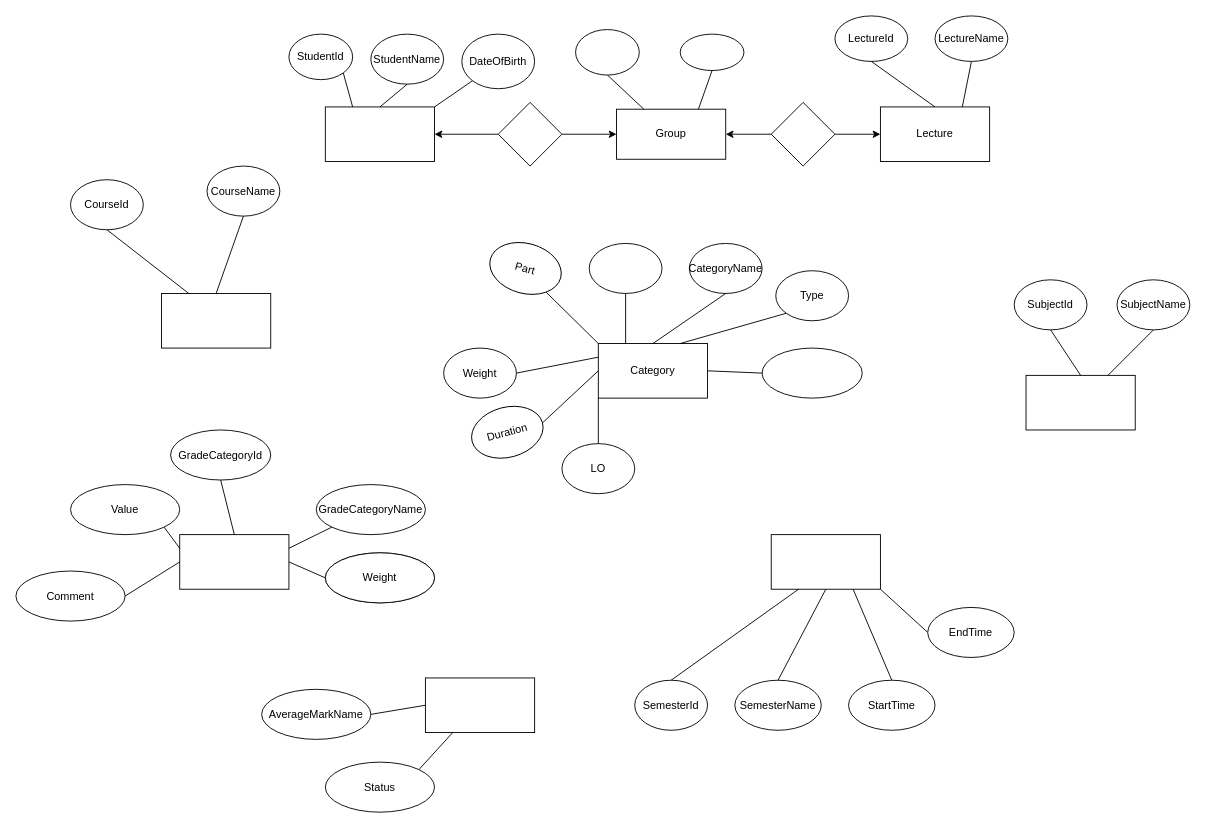
Image size: 1206x828. Some labels were removed from this diagram. The shapes that lost their labels are listed below. From the top down, each one's centre as x and y in pixels, then its label:
point 607,52: GroupName
point 711,52: GroupId
point 379,134: Student
point 529,133: Study
point 802,133: Supevise
point 625,268: CategoryId
point 216,320: Course
point 811,372: CompletionCritiria
point 1080,402: Subject
point 234,561: GradeCategory
point 825,561: Semester
point 480,705: AverageMark
